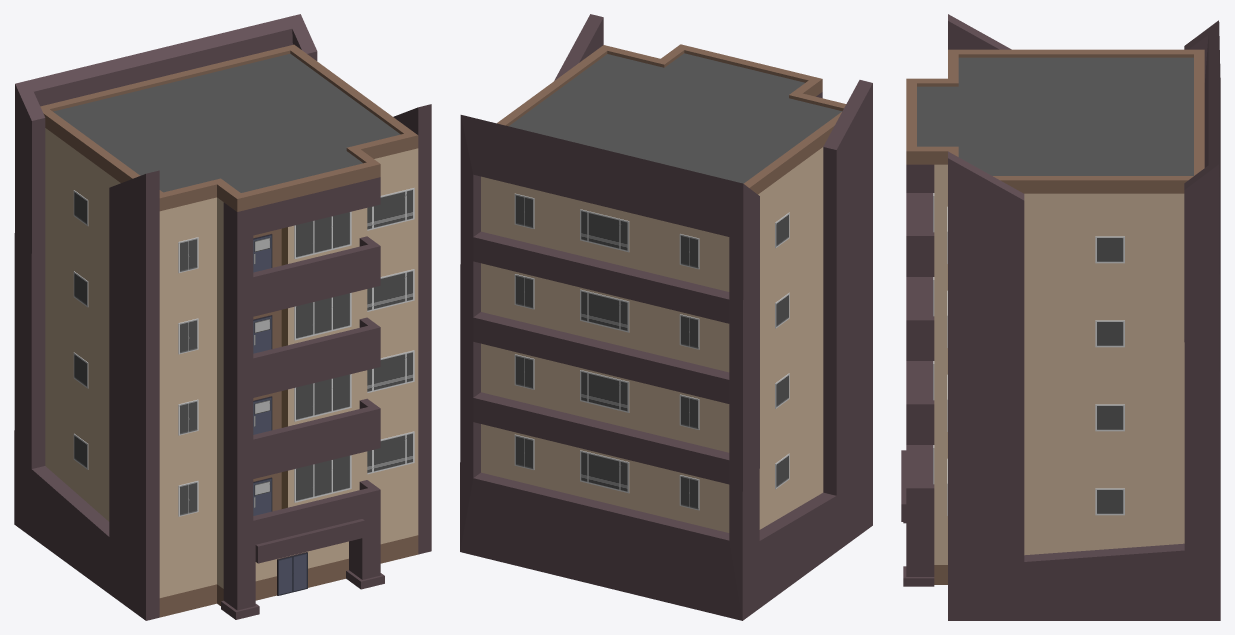
File: building07_color03.fbx
3 renders of one model, left to right at view 1: azimuth 30°, elevation 25°; view 2: azimuth 150°, elevation 25°; view 3: azimuth 270°, elevation 25°, orthographic. The views are drawn at different scales.
Parts seen in each view (by area): view 1: building07_color03; view 2: building07_color03; view 3: building07_color03.
Boxes of the visible parts, x1=… form: building07_color03: x1=14, y1=14, x2=431, y2=620; building07_color03: x1=460, y1=14, x2=872, y2=620; building07_color03: x1=901, y1=14, x2=1220, y2=620.
Size of the model in its own units: 1767 by 2644 by 1654.
